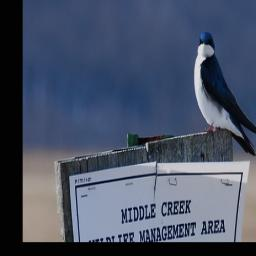Swallow: (192, 29, 256, 156)
